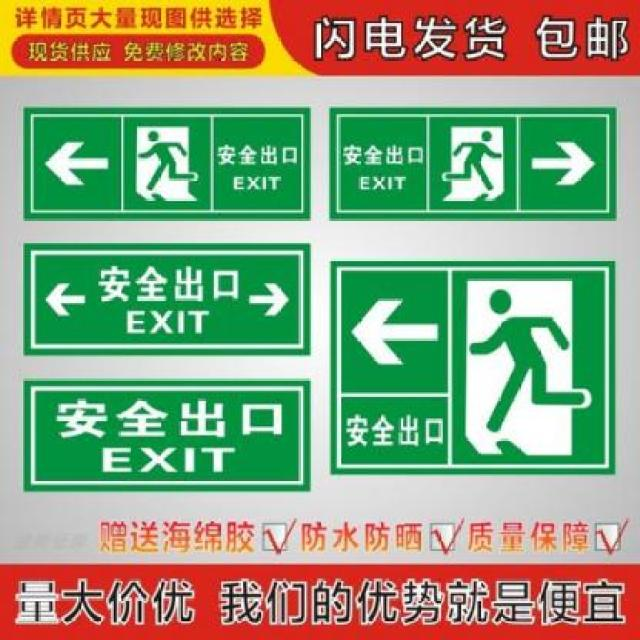exit_sign: (324, 98, 628, 224), (21, 368, 307, 495), (19, 237, 308, 354), (28, 100, 310, 218)
